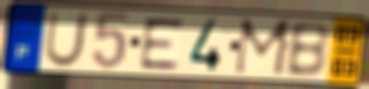4: (187, 16, 224, 75)
5: (90, 10, 131, 73)
B: (283, 20, 331, 79)
E: (139, 16, 186, 71)
M: (231, 17, 295, 79)
U: (42, 10, 91, 69)
